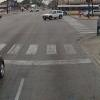Crosswalk: (4, 36, 100, 68)
